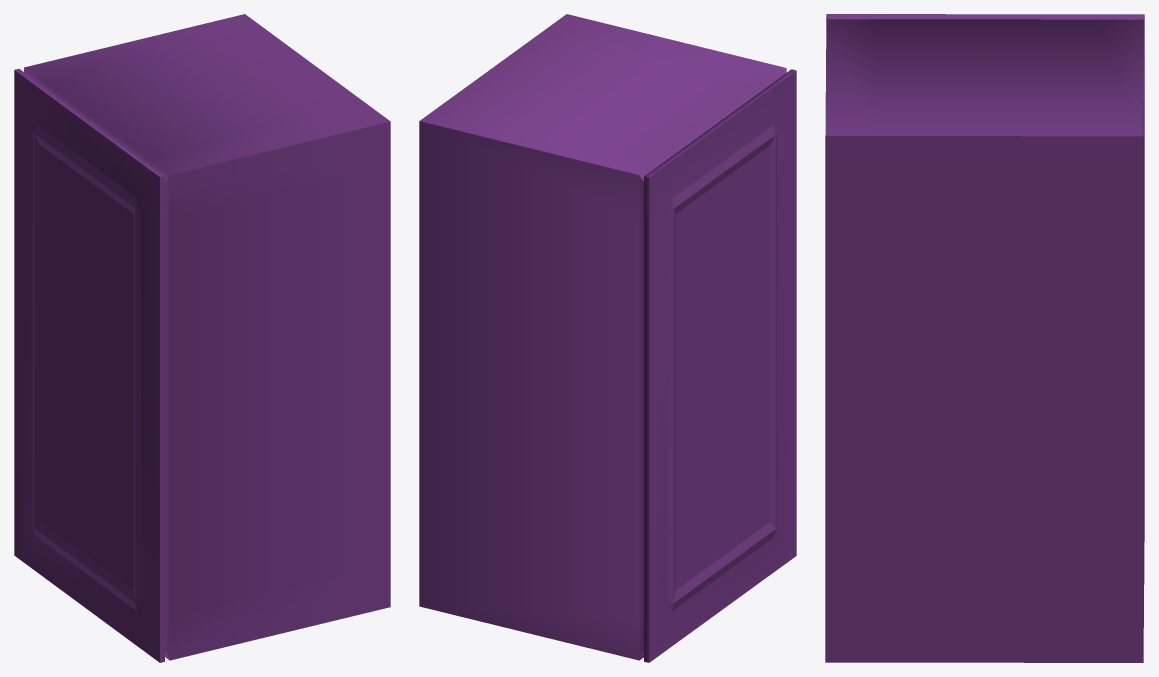
Rendered from Cabinet 1_resized.FBX.
3 renders of one model, left to right at view 1: azimuth 30°, elevation 25°; view 2: azimuth 150°, elevation 25°; view 3: azimuth 270°, elevation 25°, orthographic. The views are drawn at different scales.
Parts seen in each view (by area): view 1: cabinet 01; view 2: cabinet 01; view 3: cabinet 01.
Boxes of the visible parts, <box> form: cabinet 01: <box>14,14,390,662</box>; cabinet 01: <box>419,14,796,662</box>; cabinet 01: <box>825,14,1144,662</box>.
Size of the model in its own units: 0.4987 by 0.9918 by 0.5445.
